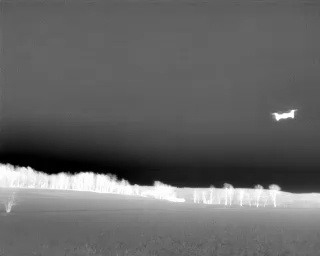DRONE: (267, 104, 302, 127)
